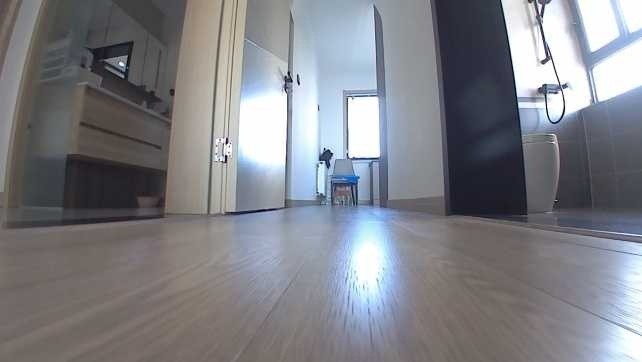door_anno: (164, 0, 295, 216)
door_sill: (450, 210, 641, 244)
toilet: (520, 128, 563, 216)
washstand: (28, 79, 169, 174)
